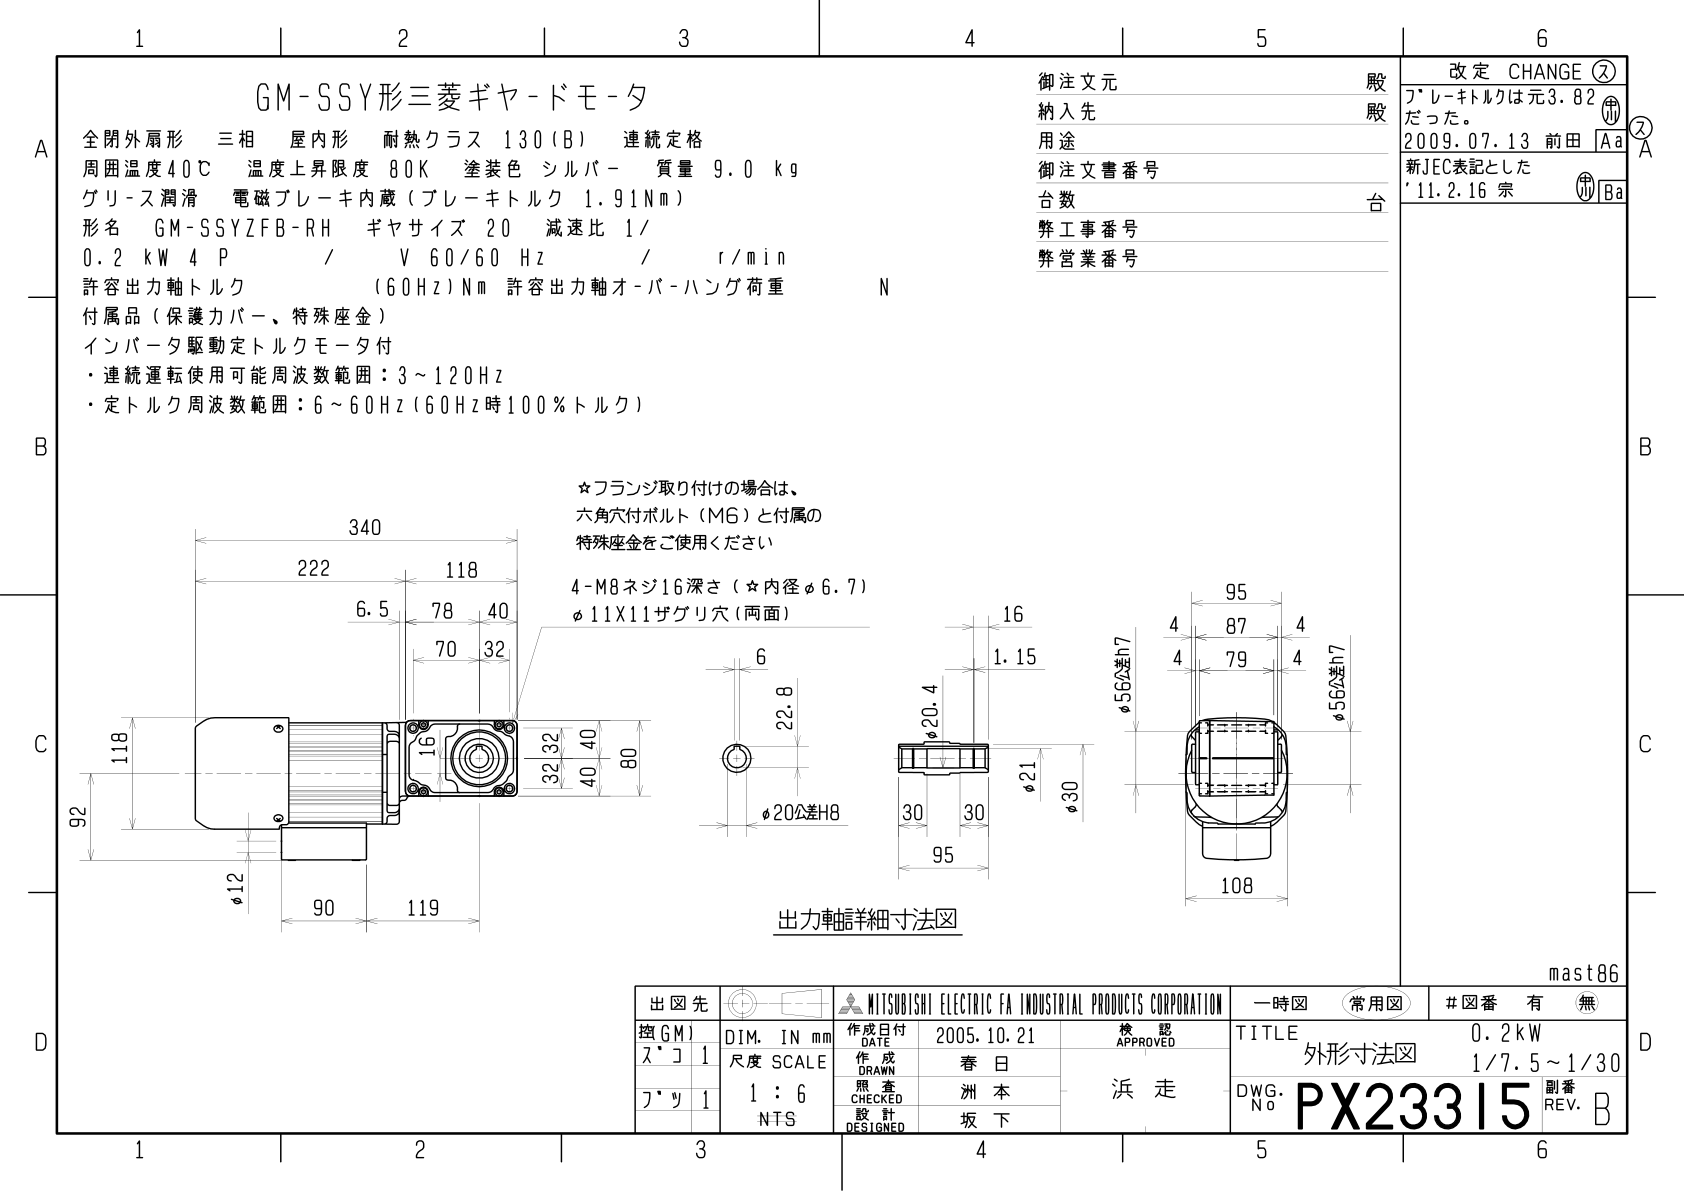GM_SSY_インバータ屋内_三相: (61, 459, 1392, 949)
